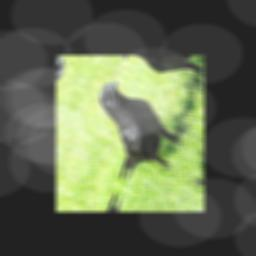Crow: (77, 74, 190, 199)
